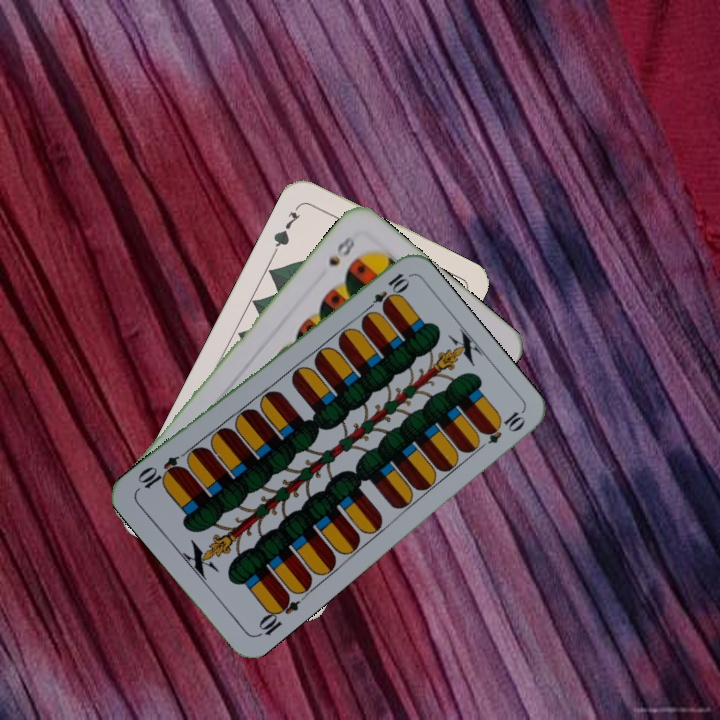E10: (253, 590, 302, 640), (360, 268, 410, 316)
G7: (269, 200, 303, 255)
S8: (324, 231, 358, 269)
